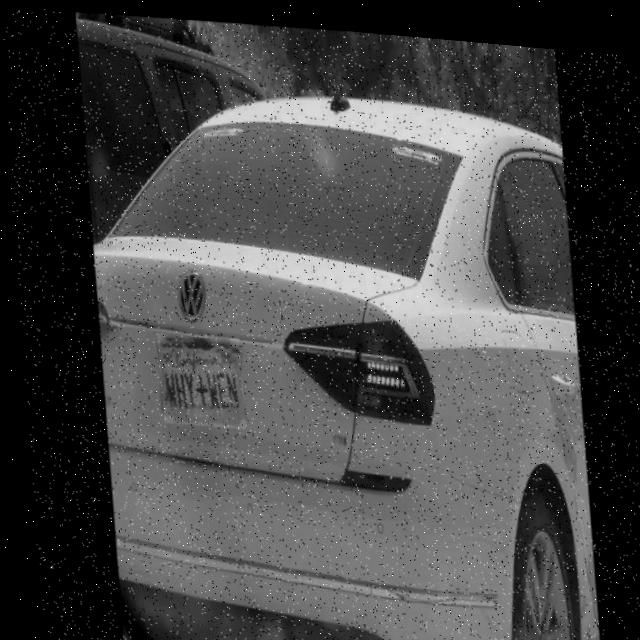LicensePlate: (153, 329, 241, 426)
